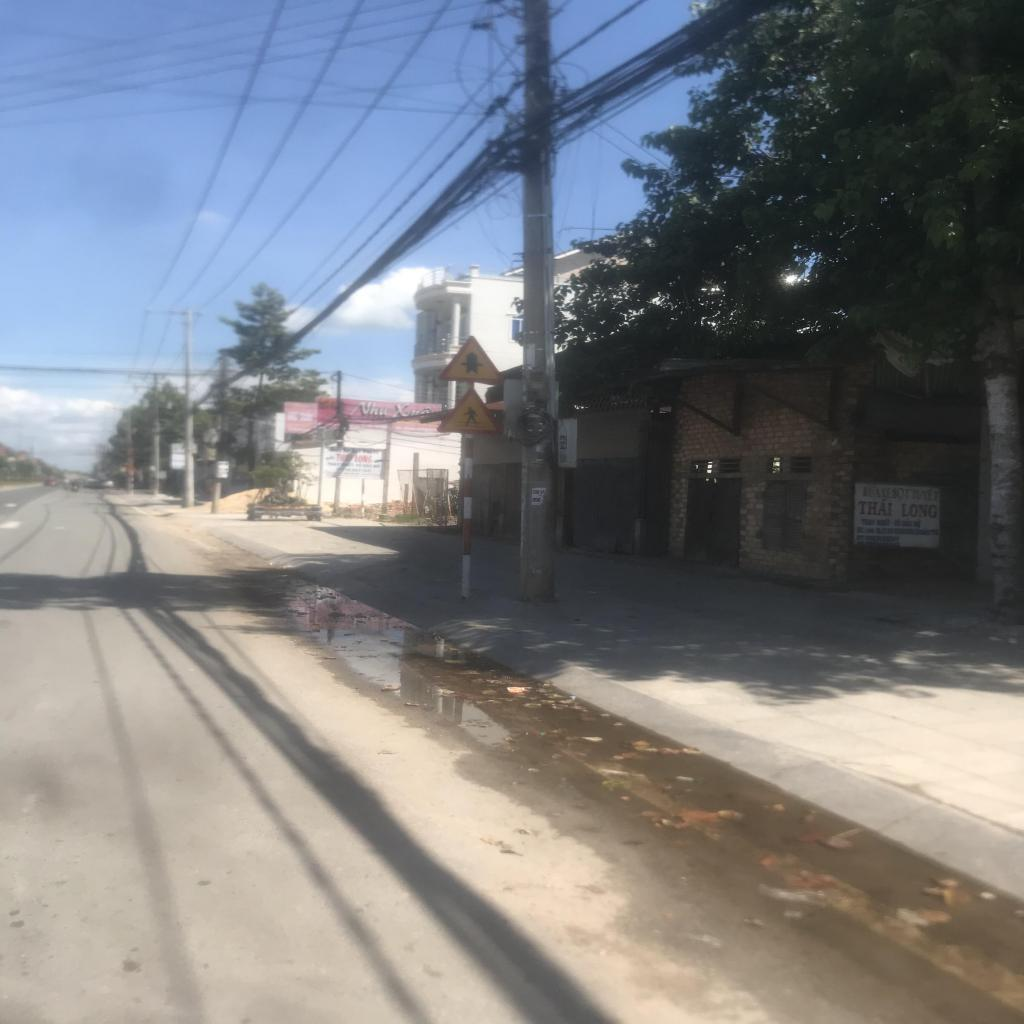chu_y_nguoi_di_bo_cat_ngang: (435, 387, 504, 434)
giao_nhau_voi_duong_khong_uu_tien: (437, 333, 506, 382)
